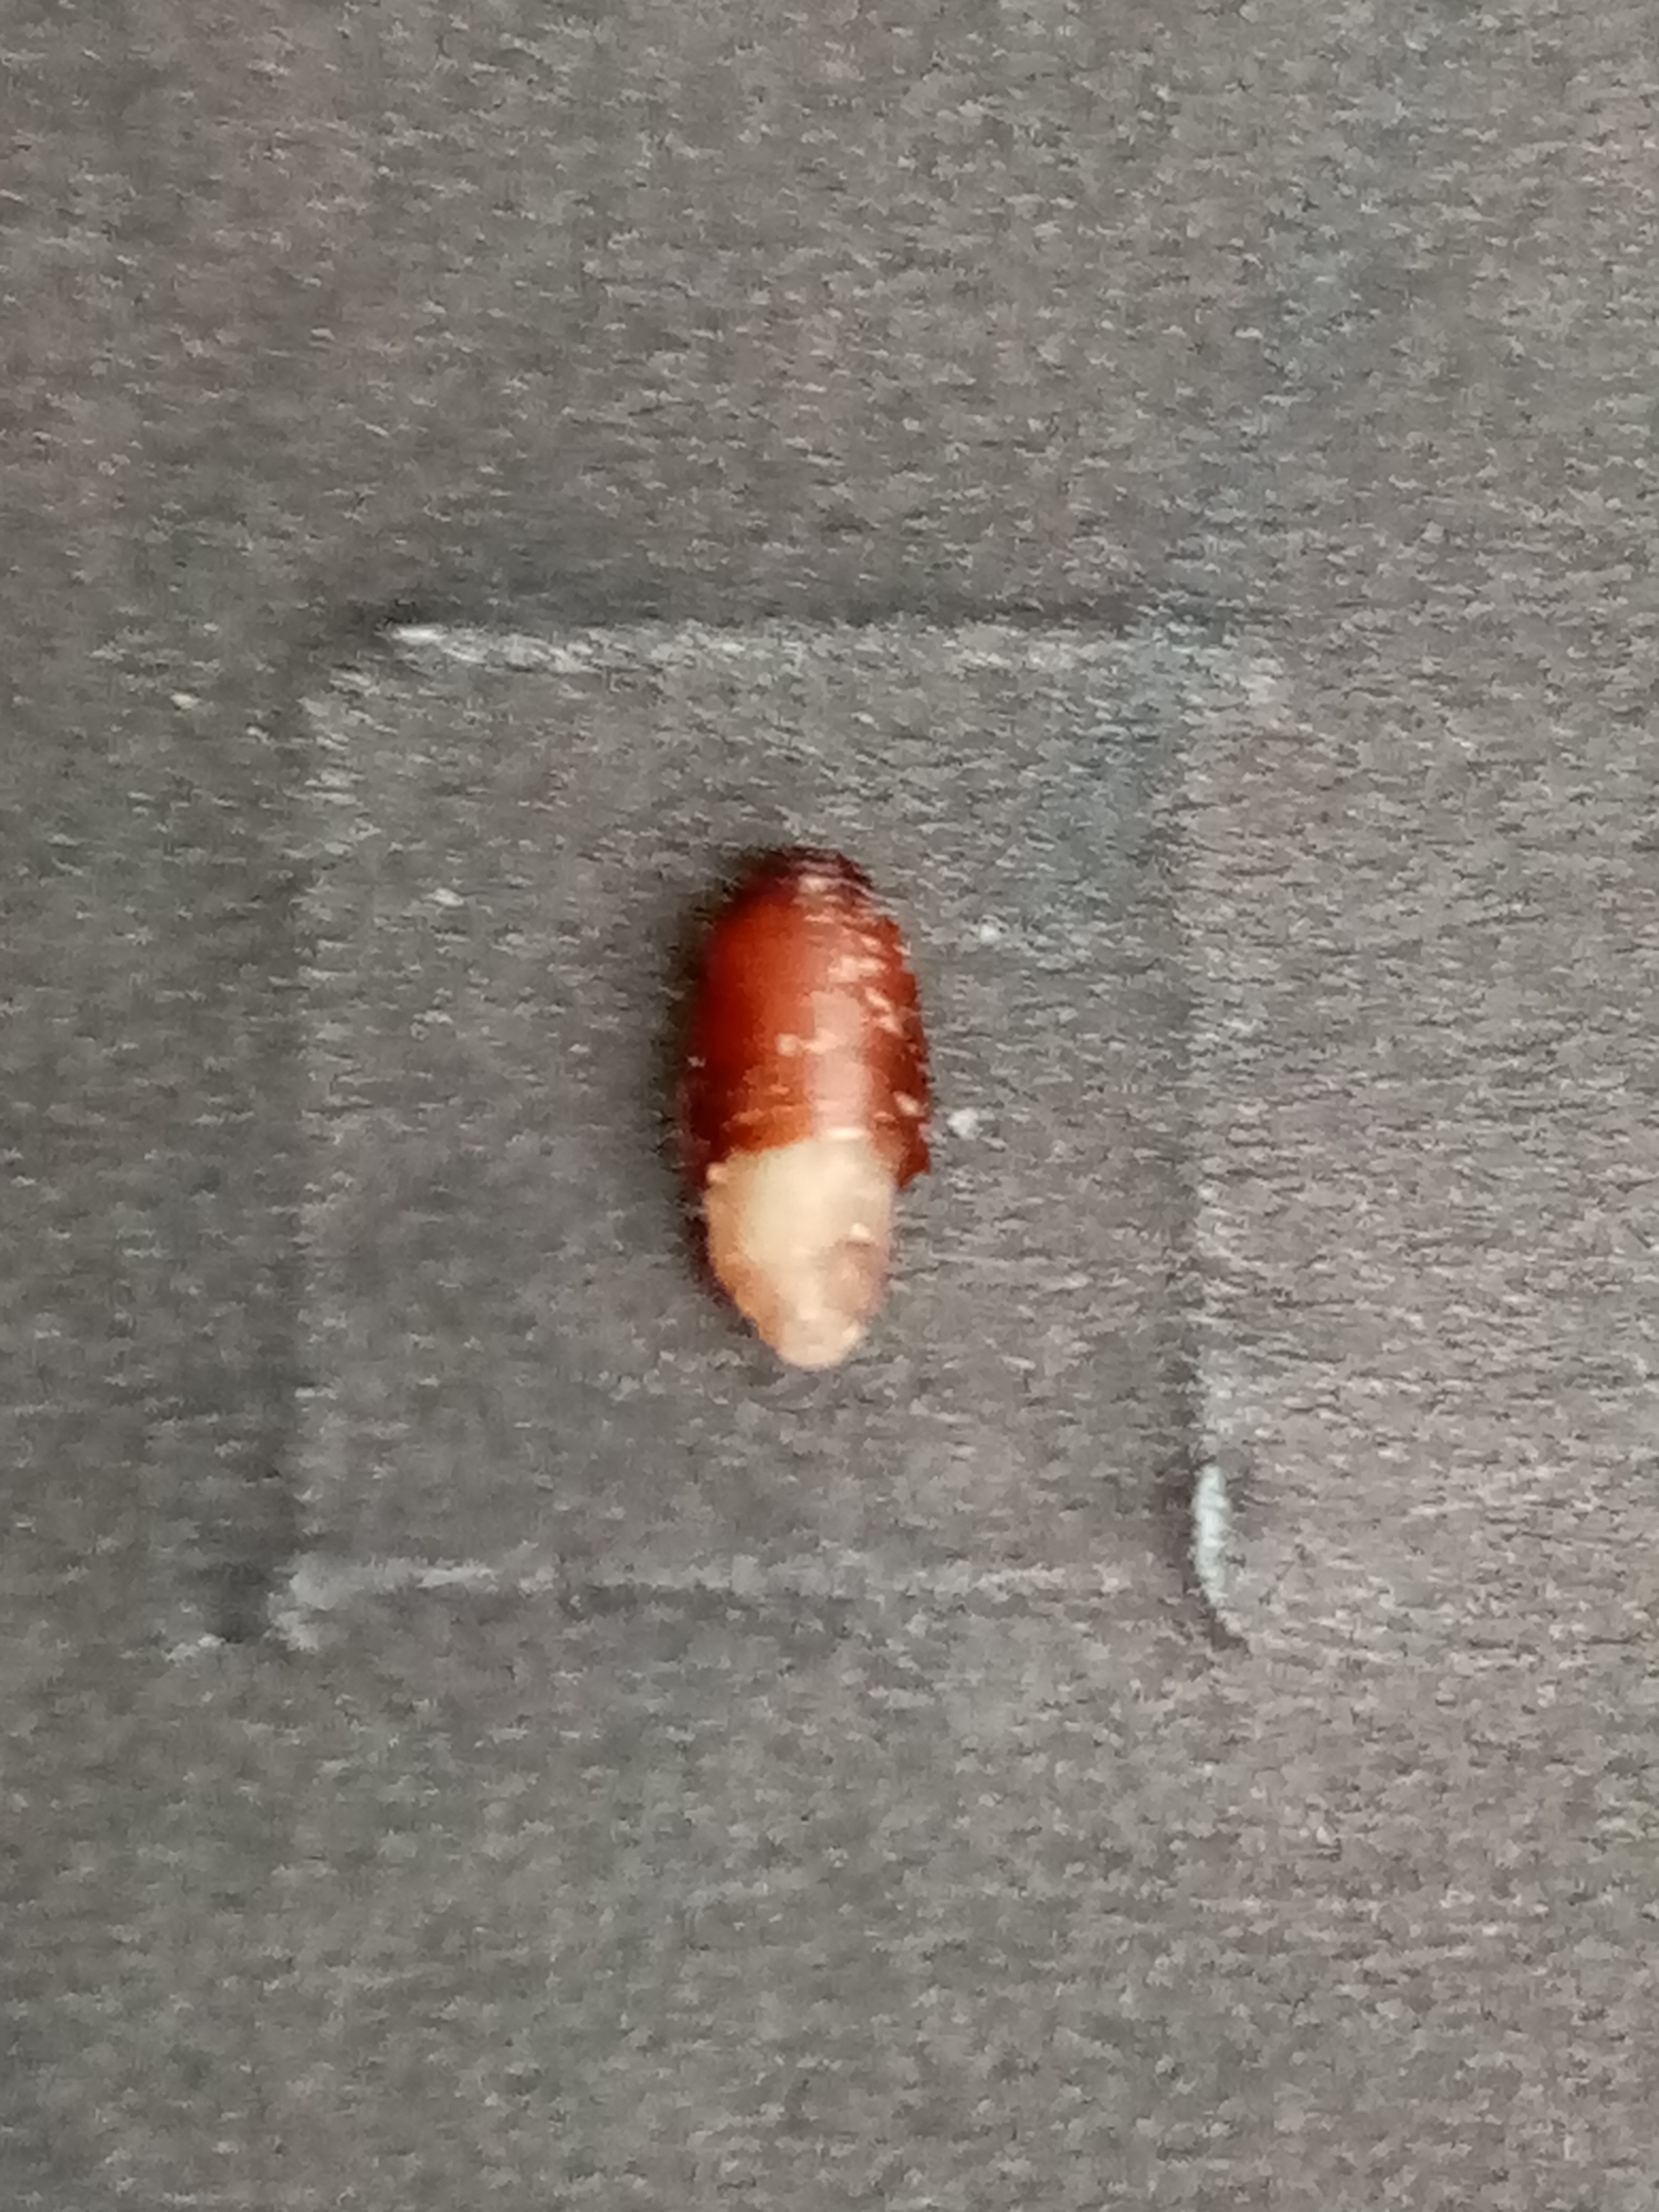pupa: (704, 1233, 892, 1371)
